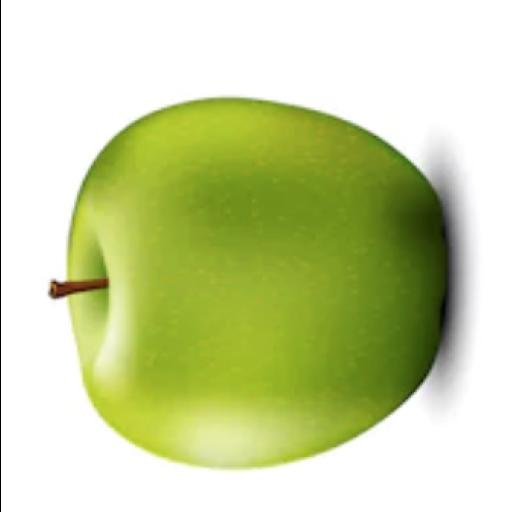apple: (52, 98, 445, 467)
